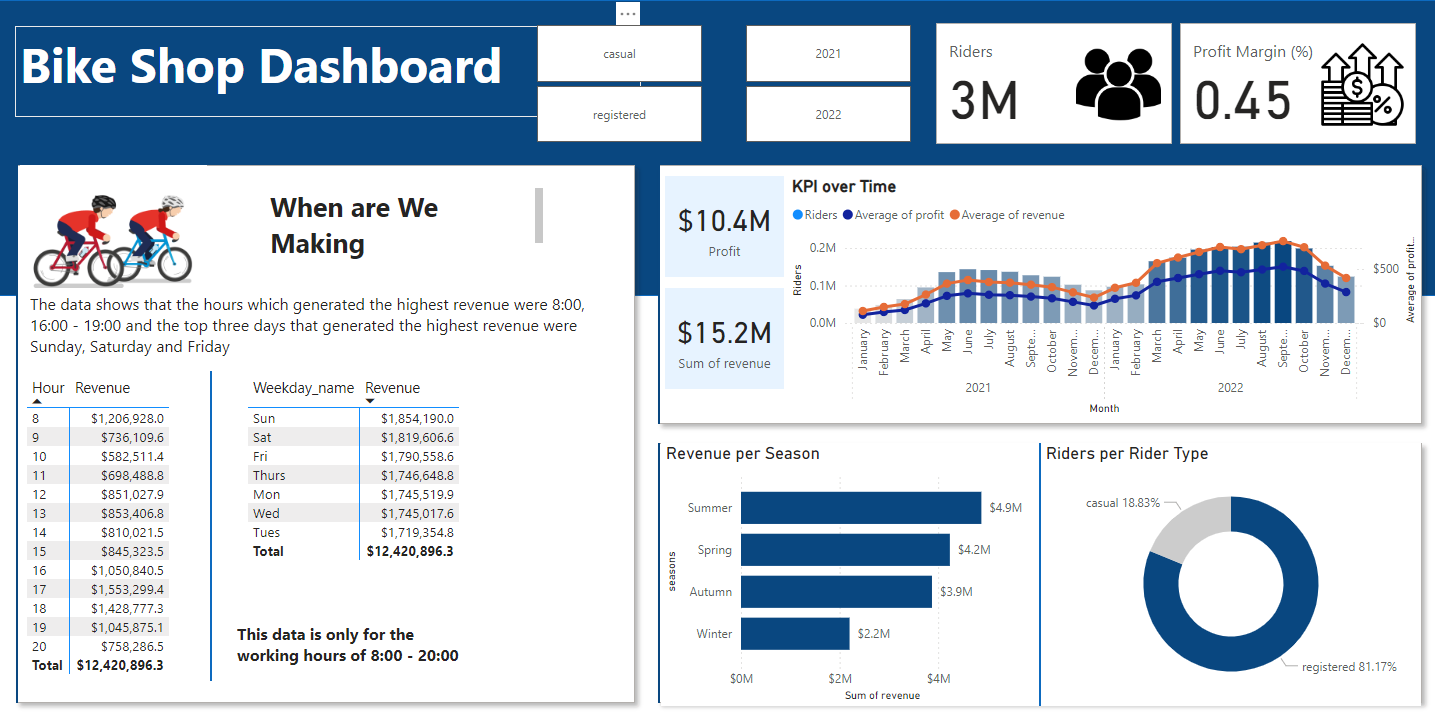

The page's visual inventory and layout, read from the dashboard file:
{"tool":"powerbi","page":{"name":"Page 1","canvas":[1440,720],"ordinal":0},"visuals":[{"type":"shape","box":[0,0,1871.1,295.6],"z":0},{"type":"cardVisual","fields":{"Data":["Min(bike_data.riders)"]},"box":[0,147.8,653.3,572.2],"z":1000},{"type":"cardVisual","fields":{"Data":["Min(bike_data.riders)"]},"box":[642.4,425.9,797.4,293.9],"z":2000},{"type":"cardVisual","fields":{"Data":["Min(bike_data.riders)"]},"box":[0,147.8,233.3,157.8],"z":3000},{"type":"pivotTable","fields":{"Values":["Sum(bike_data.revenue)"],"Rows":["bike_data.hr"]},"box":[23.3,371.1,221.1,321.1],"z":4000},{"type":"textbox","box":[265.6,183.3,283.3,86.7],"z":5000},{"type":"textbox","box":[25.6,287.8,594.4,83.3],"z":6000},{"type":"cardVisual","fields":{"Data":["Min(bike_data.riders)"]},"box":[642.4,147.5,797.4,293.9],"z":7000},{"type":"lineClusteredColumnComboChart","title":"KPI over Time","fields":{"Category":["bike_data.dteday.Variation.Date Hierarchy.Year","bike_data.dteday.Variation.Date Hierarchy.Month","bike_data.dteday.Variation.Date Hierarchy.Day"],"Y":["Sum(bike_data.riders)"],"Y2":["Avg(bike_data.profit)","Avg(bike_data.revenue)"]},"box":[787.8,175.6,633.9,243.7],"z":8000},{"type":"barChart","title":"Revenue per Season","fields":{"Category":["bike_data.seasons"],"Y":["Sum(bike_data.revenue)"]},"box":[662.4,443,379.1,262.8],"z":9000},{"type":"donutChart","title":"Riders per Rider Type","fields":{"Category":["bike_data.rider_type"],"Y":["Sum(bike_data.riders)"]},"box":[1041.6,443,380.2,262.8],"z":10000},{"type":"shape","box":[891.1,443,299.9,262.8],"z":11000},{"type":"card","fields":{"Values":["Sum(bike_data.profit)"]},"box":[666.4,175.6,118.4,101.3],"z":12000},{"type":"card","fields":{"Values":["Sum(bike_data.revenue)"]},"box":[666.4,287.9,118.4,101.3],"z":13000},{"type":"cardVisual","fields":{"Data":["Sum(bike_data.riders)","bike_data.Profit Margin"]},"box":[932.2,17.8,490,131.1],"z":14000},{"type":"slicer","fields":{"Values":["bike_data.Year"]},"box":[721.1,17.8,214.4,131.1],"z":15000},{"type":"textbox","box":[15.6,25.6,626.7,91.1],"z":16000},{"type":"slicer","fields":{"Values":["bike_data.rider_type"]},"box":[512.2,17.8,214.4,131.1],"z":17000},{"type":"pivotTable","fields":{"Values":["Sum(bike_data.revenue)"],"Rows":["bike_data.Weekday_name"]},"box":[244.4,371.1,235.6,223.3],"z":18000},{"type":"textbox","box":[233.3,617.8,388.9,63.3],"z":19000},{"type":"shape","box":[62.2,371.1,300,310],"z":20000}]}

Visuals, with their boxes in screenshot pixels (x1, y1, x2, y2), scaled from the page's 1440x720 canvas onto the 1435x720 screenshot:
shape: 0 0 1434 296
cardVisual - Min(bike_data.riders): 0 148 651 719
cardVisual - Min(bike_data.riders): 640 426 1434 719
cardVisual - Min(bike_data.riders): 0 148 232 306
pivotTable - Sum(bike_data.revenue) x bike_data.hr: 23 371 244 692
textbox: 265 183 547 270
textbox: 26 288 618 371
cardVisual - Min(bike_data.riders): 640 148 1434 441
"KPI over Time" lineClusteredColumnComboChart: 785 176 1417 419
"Revenue per Season" barChart: 660 443 1038 706
"Riders per Rider Type" donutChart: 1038 443 1417 706
shape: 888 443 1187 706
card - Sum(bike_data.profit): 664 176 782 277
card - Sum(bike_data.revenue): 664 288 782 389
cardVisual - Sum(bike_data.riders) x bike_data.Profit Margin: 929 18 1417 149
slicer - bike_data.Year: 719 18 932 149
textbox: 16 26 640 117
slicer - bike_data.rider_type: 510 18 724 149
pivotTable - Sum(bike_data.revenue) x bike_data.Weekday_name: 244 371 478 594
textbox: 232 618 620 681
shape: 62 371 361 681
